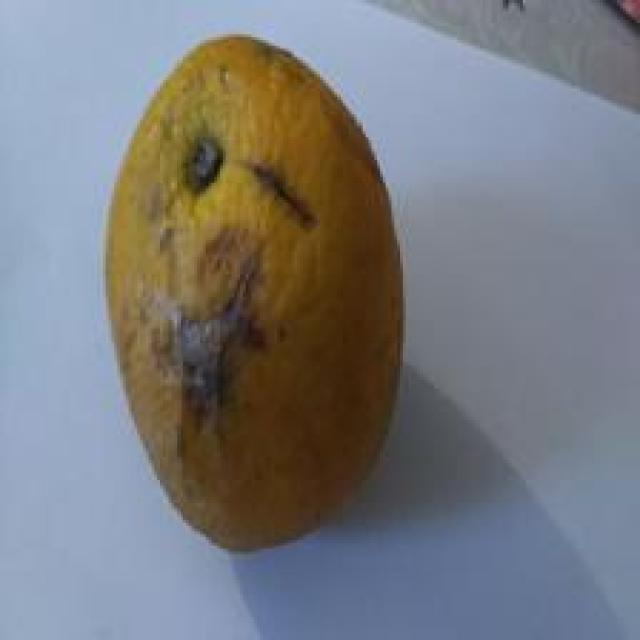overripe: (102, 23, 411, 559)
